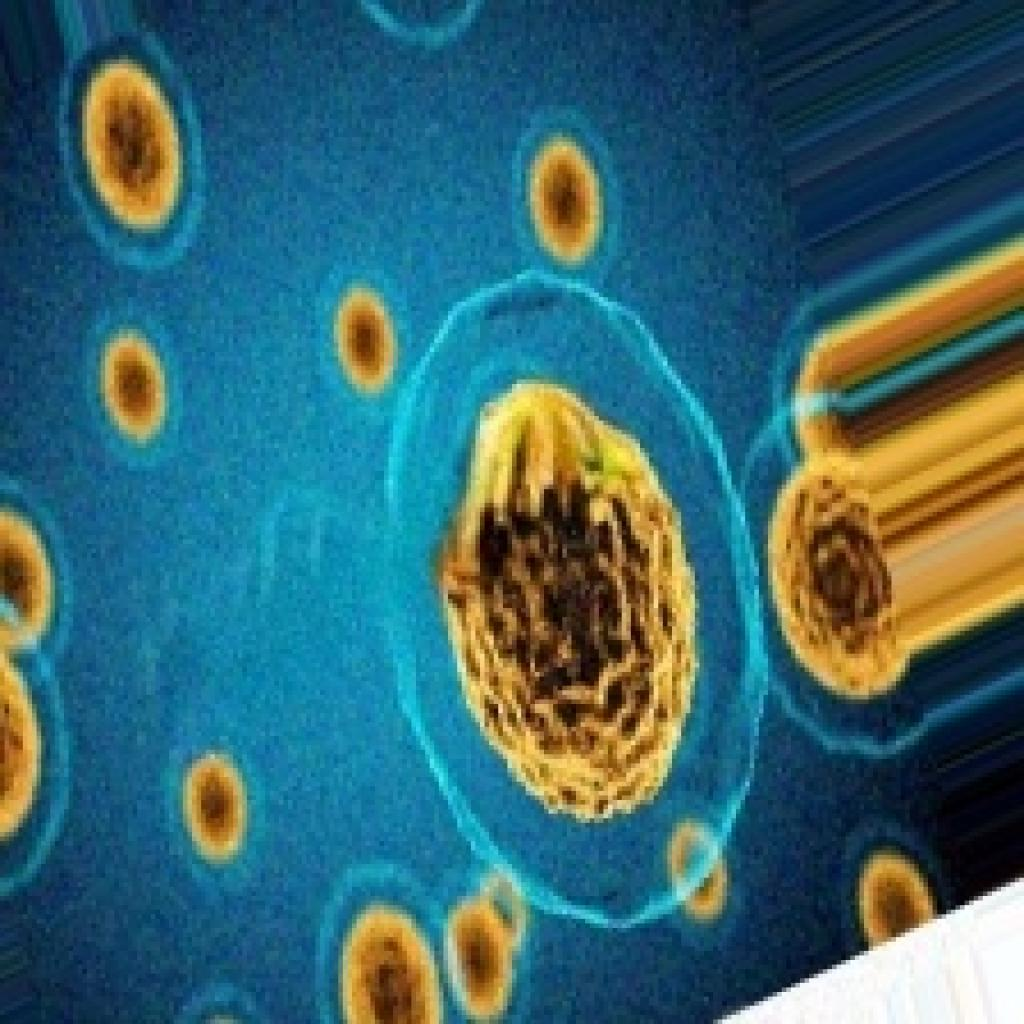Sphericalbacteria: (434, 375, 700, 823)
